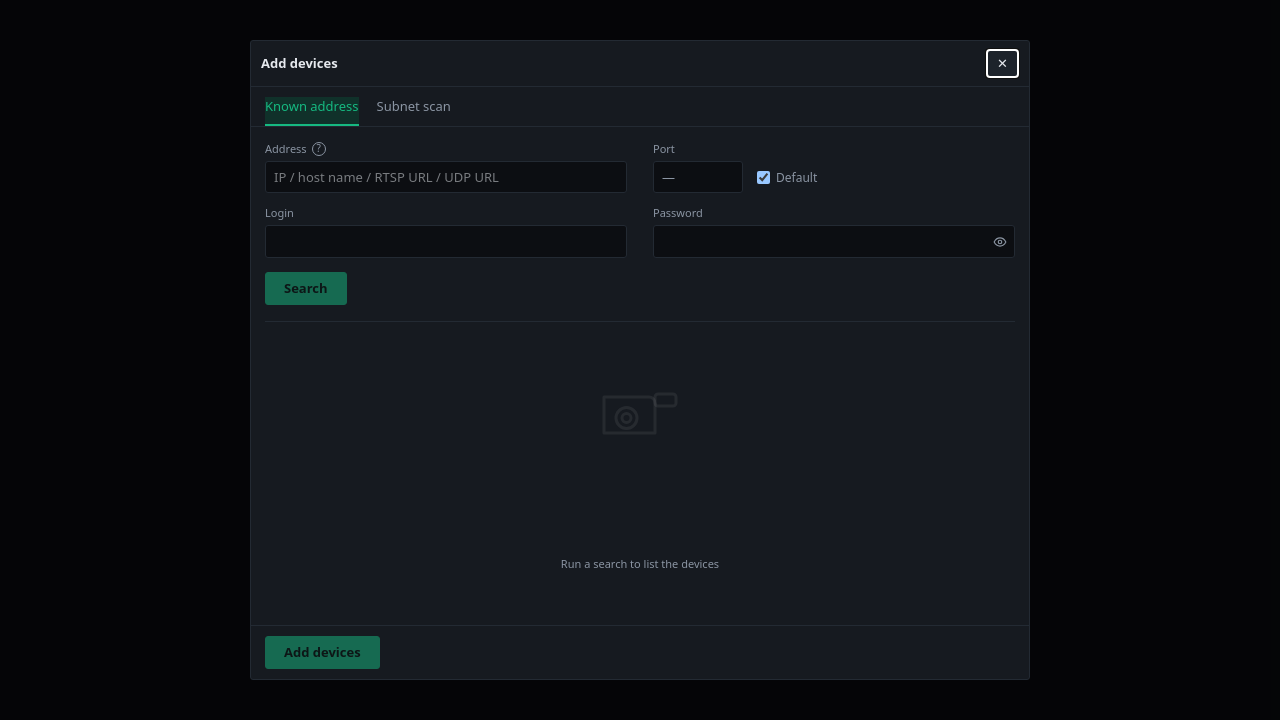
Test case: AddDeviceWizard: an ineligible camera is not selectable › disables the checkbox of the ineligible ones and "Select all" only counts the enabled ones
The image size is (1280, 720).
Type "10.0.0.1" into the field labelled "Address".
click(446, 177); type("10.0.0.1")  # box [265,161,627,193]
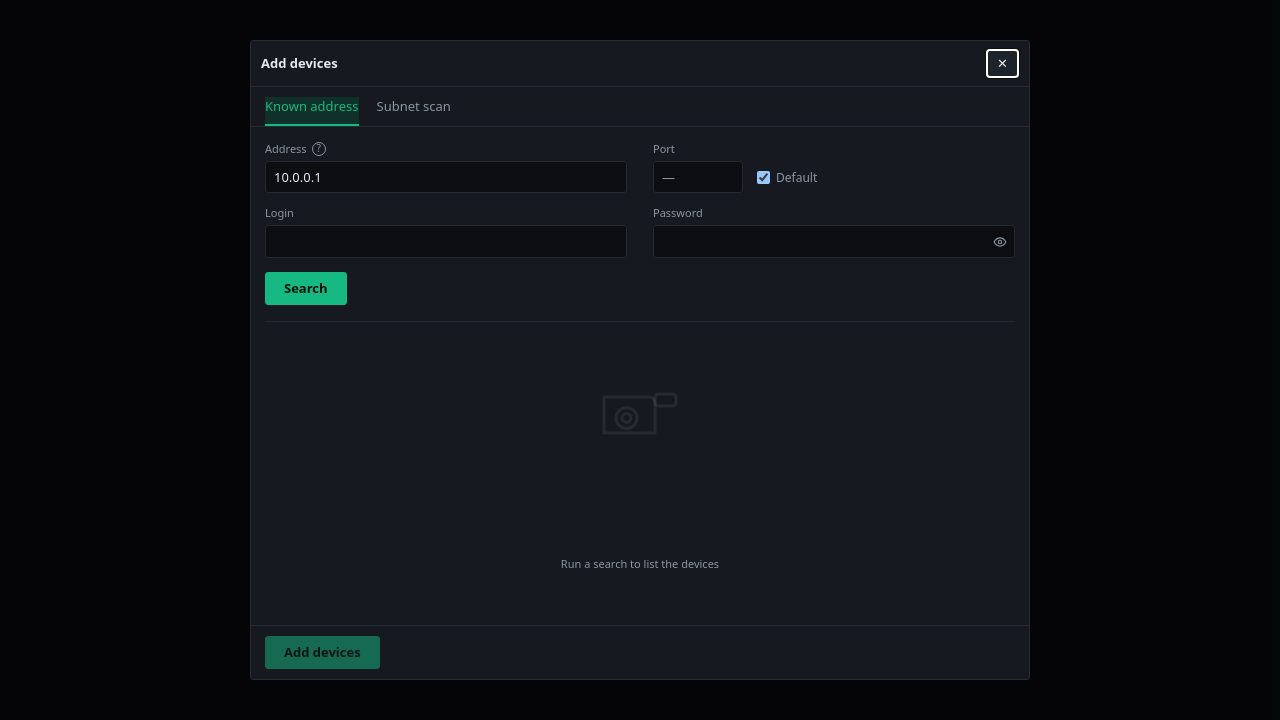
Click the button "Search".
click(306, 289)  # box [265,272,347,305]
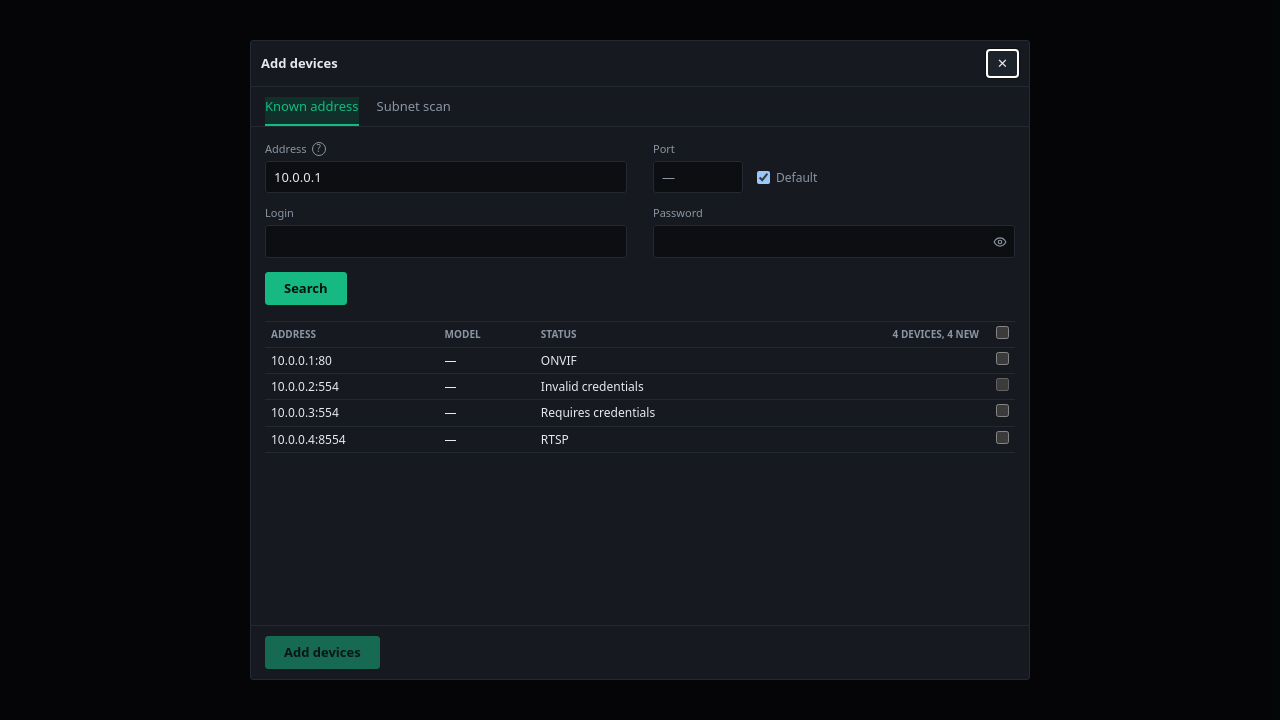
Expected: the checkbox named "Select 10.0.0.1" is enabled, [996,352,1009,365]
Expected: the checkbox named "Select 10.0.0.4" is enabled, [996,431,1009,444]
Expected: the checkbox named "Select 10.0.0.2" is disabled, [996,378,1009,391]
// "Select all" only hands the enabled ones to the owner: the button count is the proof
Click the checkbox named "Select all".
click(1002, 333)  # box [996,326,1009,339]
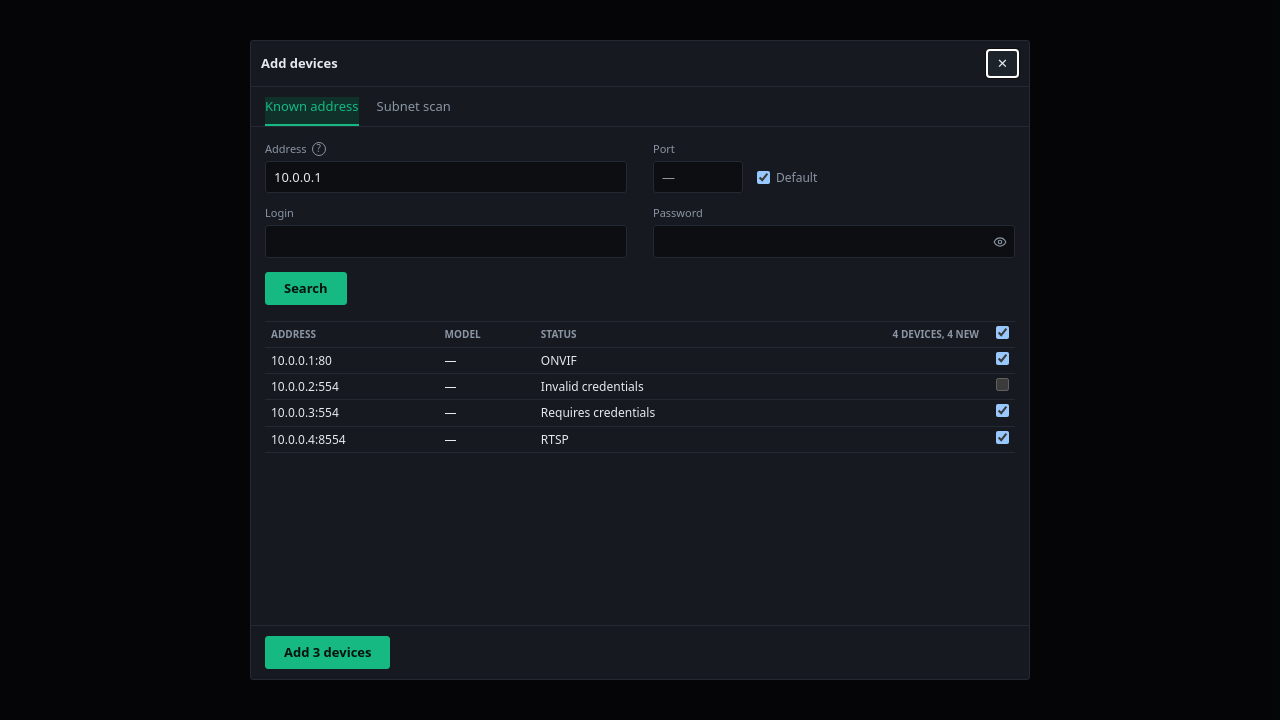
Expected: the button "Add 3 devices" is shown, [265,636,390,669]
